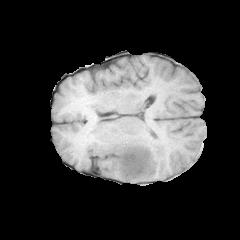glioma: (114, 132, 168, 178)
